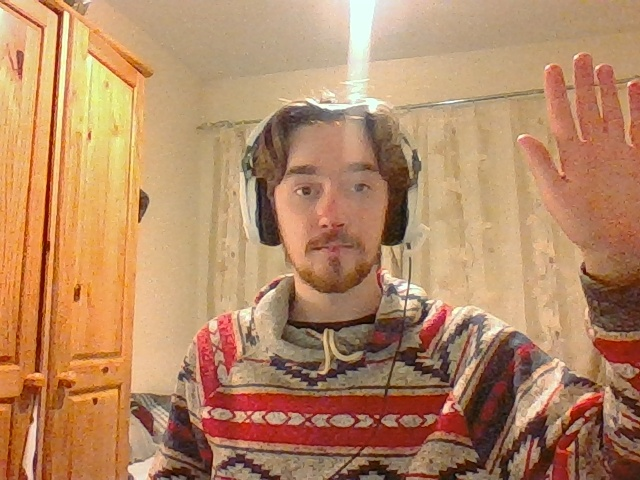hello: (516, 52, 640, 263)
